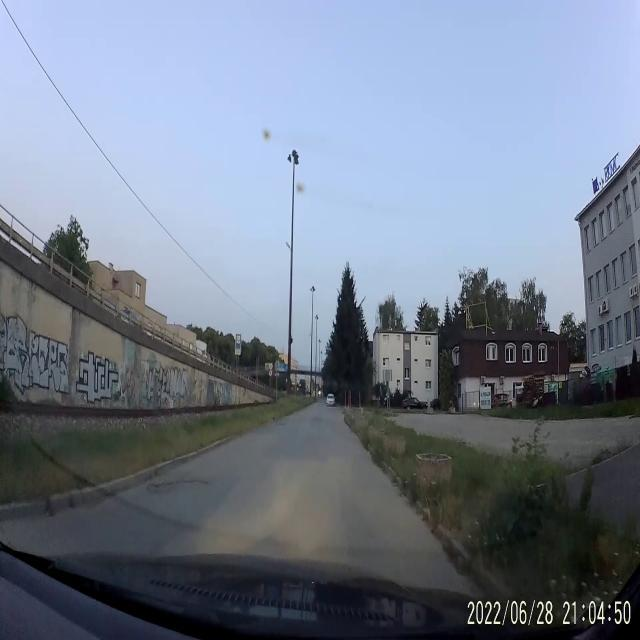Pothole: (148, 476, 210, 496)
